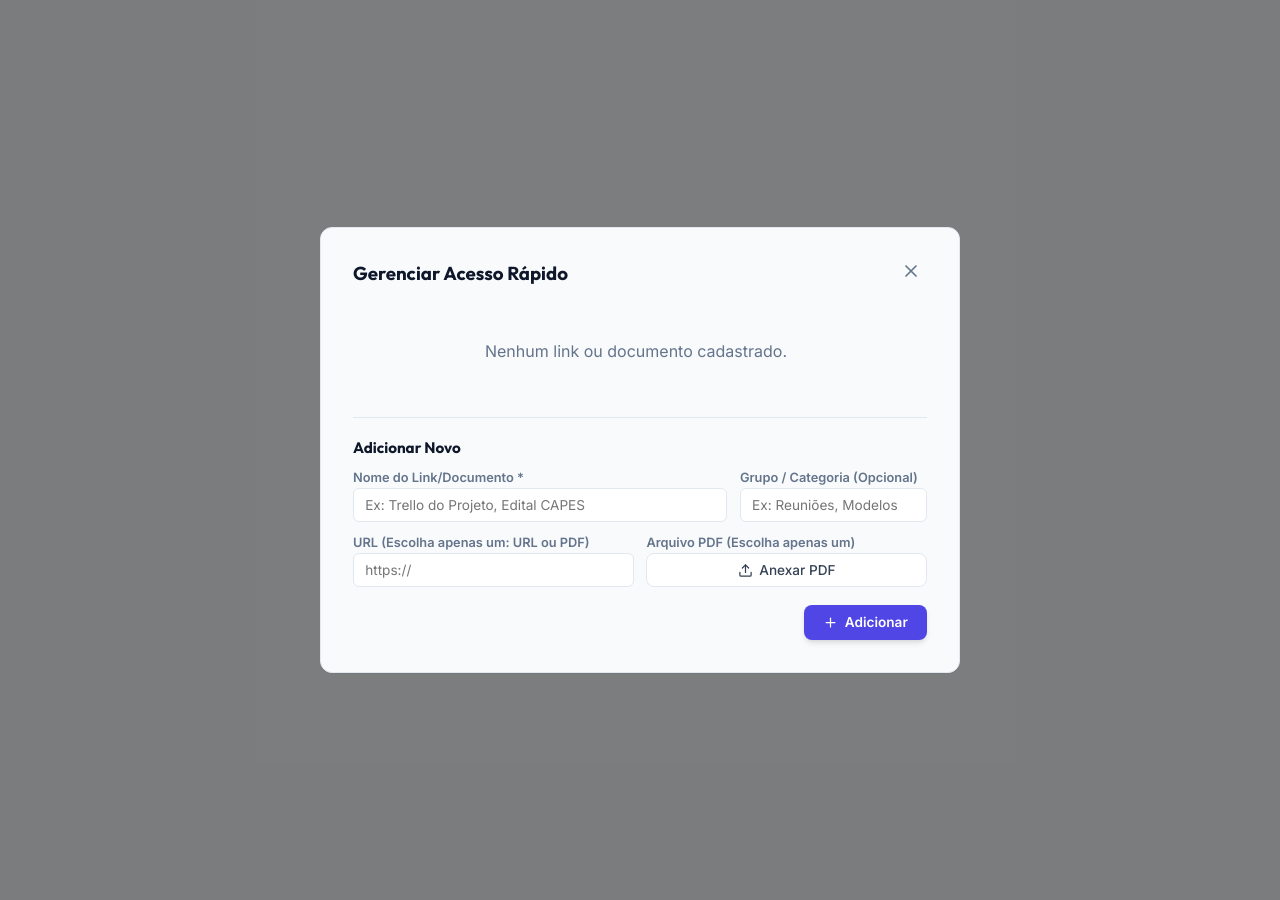
Test: ManageQuickAccessModal PDF attachment › attaches a PDF, disables the url and allows removing it
This screenshot has width=1280, height=900.
Click the button "Anexar PDF". click: (787, 570)
box: [646, 553, 927, 587]
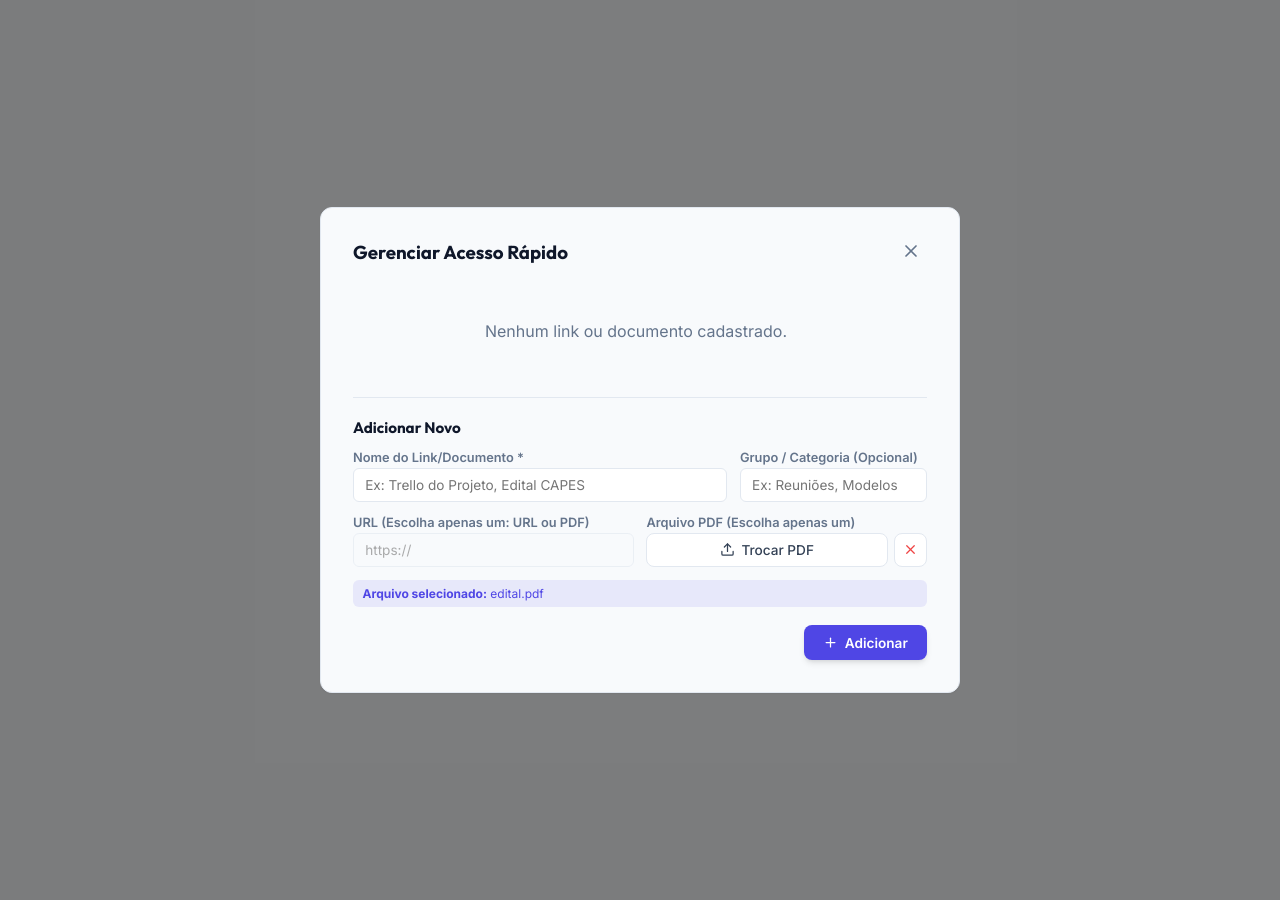
Check: the text "edital.pdf" is shown, box [490, 586, 544, 601]
Check: the field with placeholder "https://" is disabled, box [353, 533, 634, 567]
Check: the button "Trocar PDF" is shown, box [646, 533, 888, 567]
Click the button titled "Remover PDF". click: (910, 550)
box: [894, 533, 927, 567]
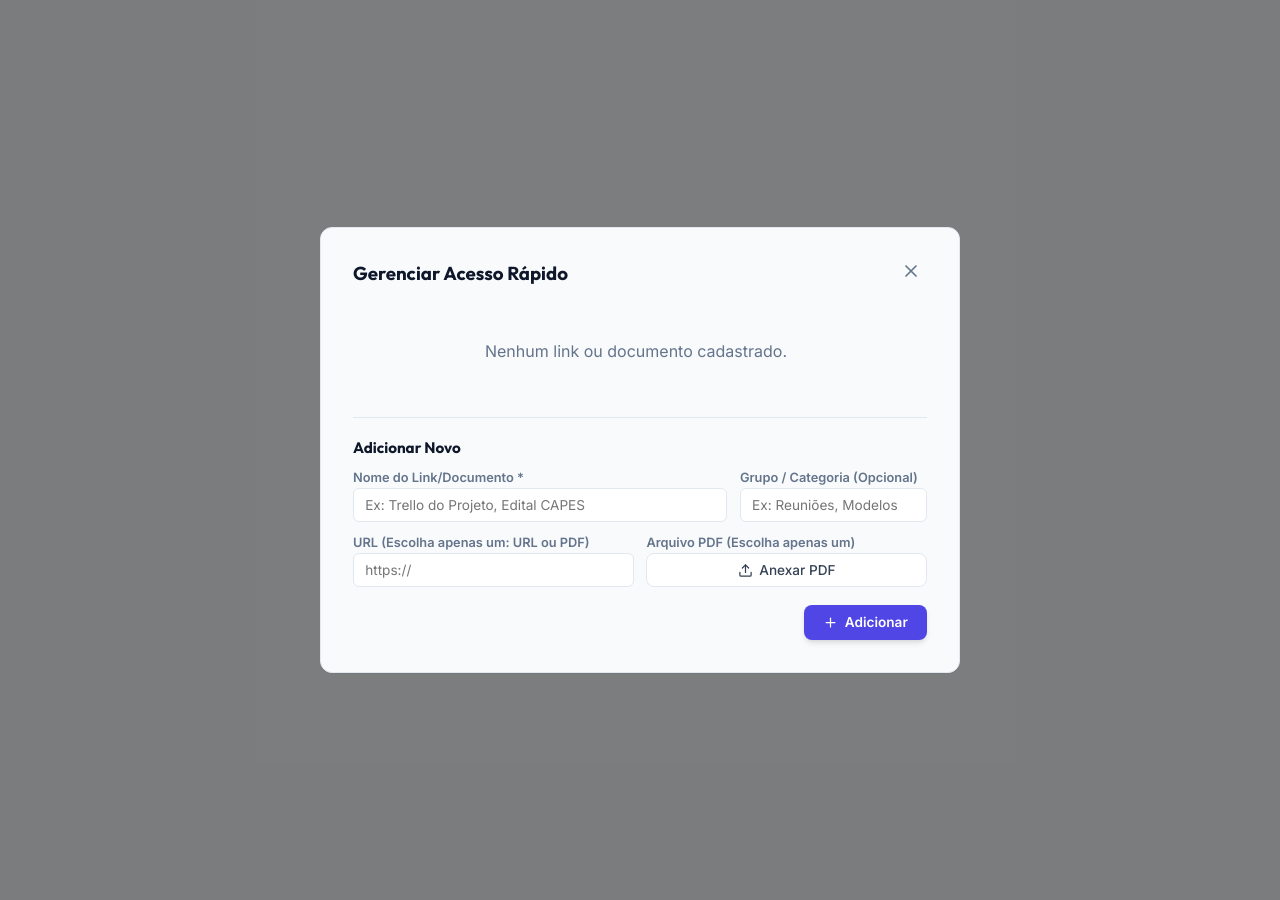
Check: the text "Arquivo selecionado" is gone
Check: the field with placeholder "https://" is enabled, box [353, 553, 634, 587]
